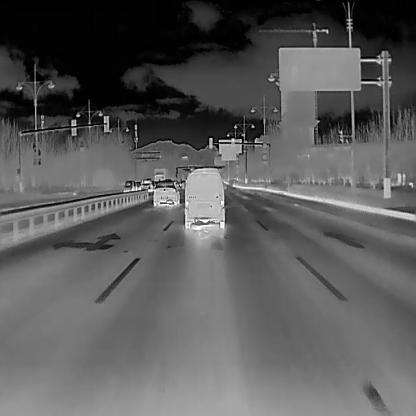car: (183, 166, 225, 228), (152, 180, 179, 206), (139, 177, 151, 189), (124, 180, 134, 190)
truck: (154, 166, 164, 180)
